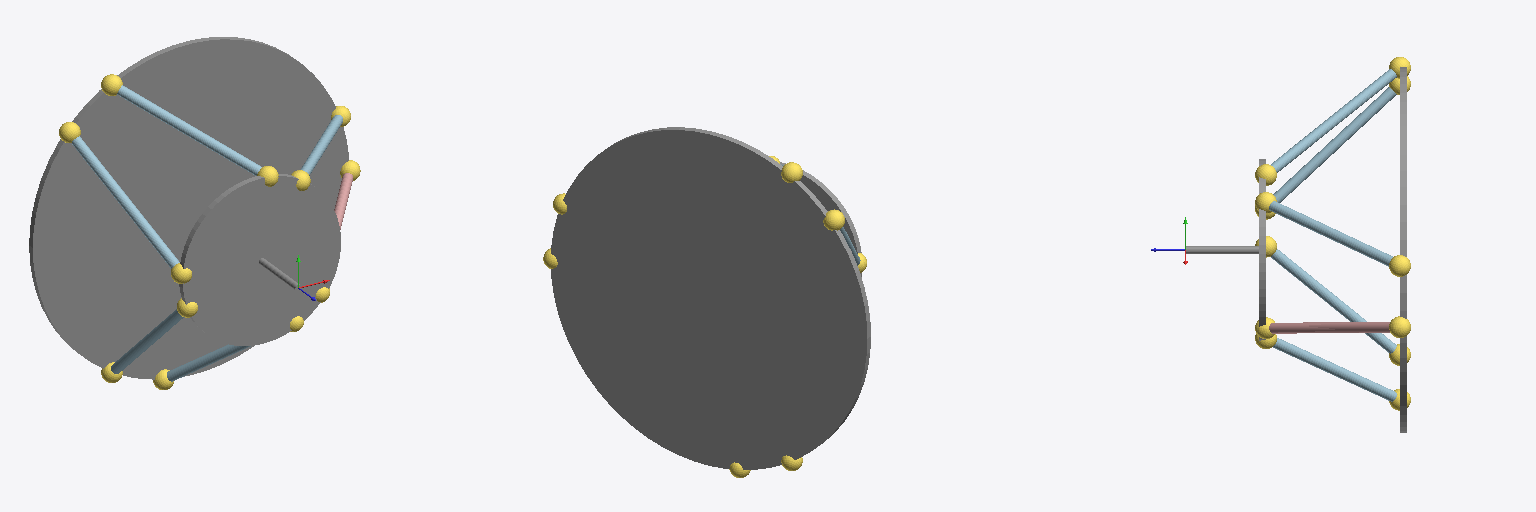
Rendered from stewart.obj.
3 renders of one model, left to right at view 1: azimuth 30°, elevation 25°; view 2: azimuth 150°, elevation 25°; view 3: azimuth 270°, elevation 25°, orthographic.
Bounding box in the file's own units: 1.03 × 1.02 × 0.7163.